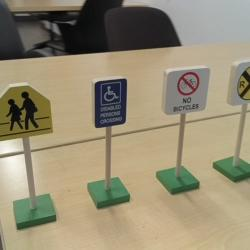disabled_persons_crossing: (91, 77, 126, 128)
no_bicycle: (161, 66, 210, 116)
railroad_crossing: (227, 59, 250, 106)
school_crossing: (1, 83, 53, 141)
